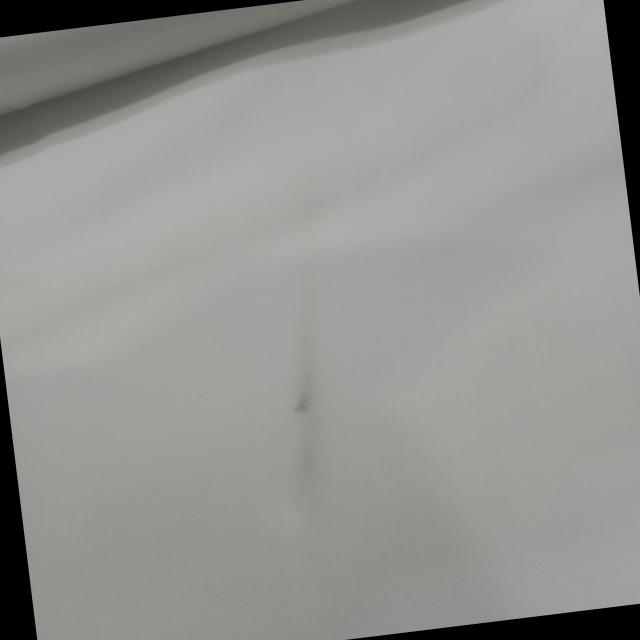stain: (269, 320, 337, 476)
